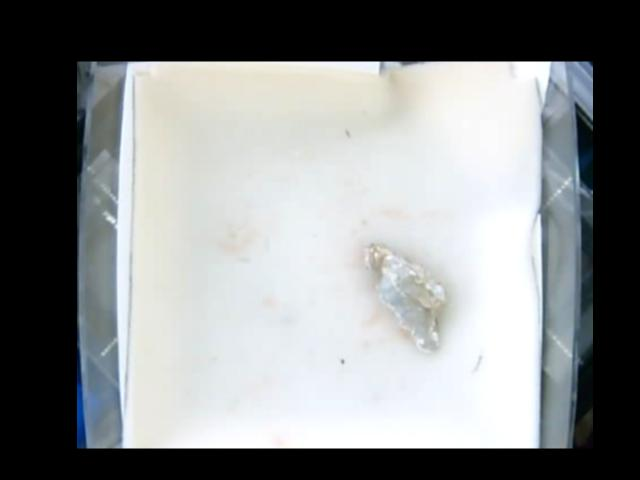Brisk: (367, 240, 445, 350)
